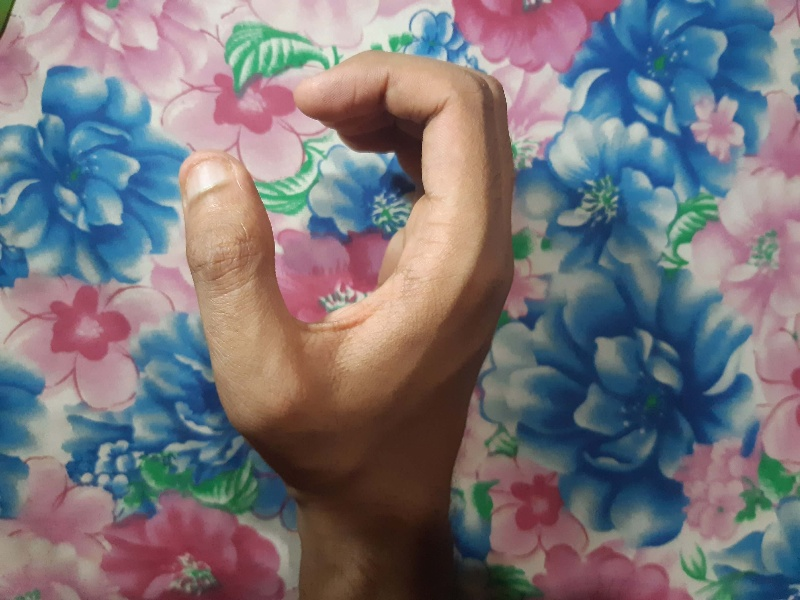one: (157, 44, 555, 515)
